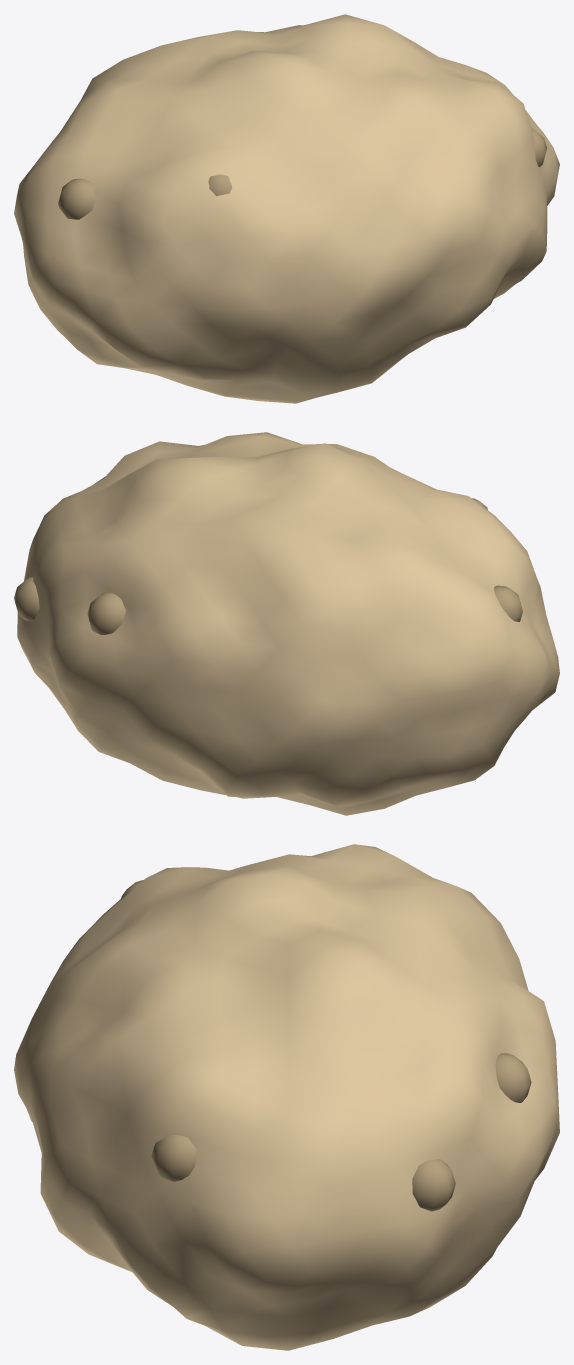
Rendered from Potato.glb.
The picture shows the model from 3 angles, top to bottom: view 1: azimuth 30°, elevation 25°; view 2: azimuth 150°, elevation 25°; view 3: azimuth 270°, elevation 25°; orthographic projection. The views are drawn at different scales.
Parts seen in each view (by area): view 1: Potato; view 2: Potato; view 3: Potato.
Part boxes in pixels (left/top/right/bottom): Potato: left=14, top=14, right=559, bottom=403; Potato: left=14, top=432, right=559, bottom=815; Potato: left=14, top=844, right=559, bottom=1350.
Bounding box in the file's own units: 1.11 × 0.6824 × 0.8347.
